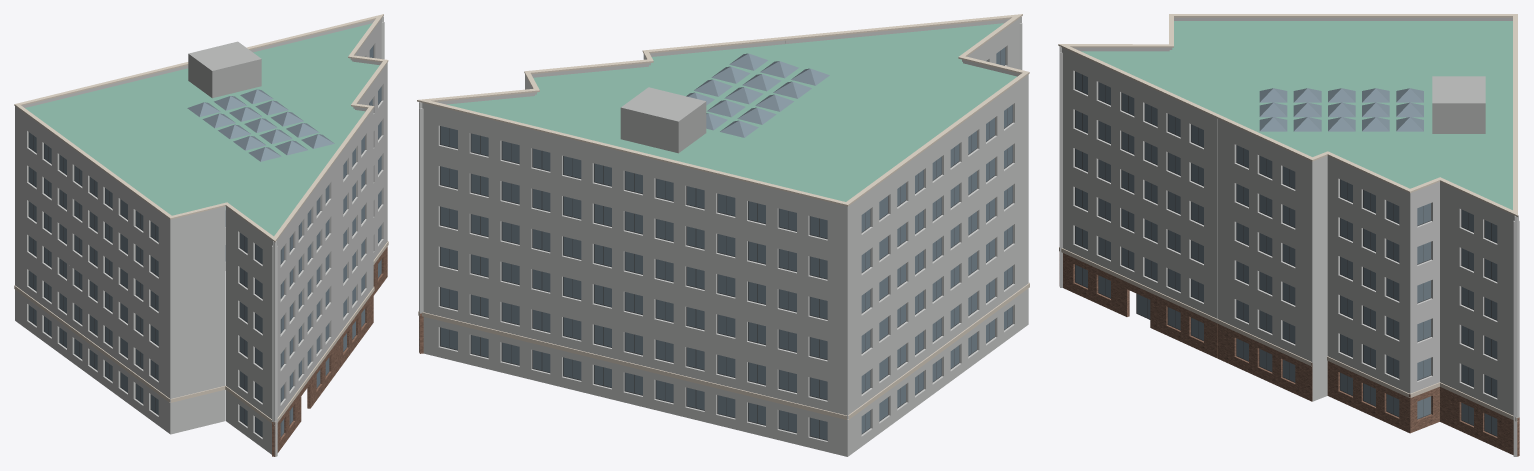
The picture shows the model from 3 angles, left to right: view 1: azimuth 30°, elevation 25°; view 2: azimuth 150°, elevation 25°; view 3: azimuth 270°, elevation 25°; orthographic projection. The views are drawn at different scales.
Visible parts, largest first — view 1: libraryLaw__panel, libraryLaw__mint, libraryLaw__glass, libraryLaw__cream, libraryLaw__frame, libraryLaw__roof, libraryLaw__brick; view 2: libraryLaw__panel, libraryLaw__mint, libraryLaw__glass, libraryLaw__cream, libraryLaw__frame, libraryLaw__roof; view 3: libraryLaw__panel, libraryLaw__mint, libraryLaw__glass, libraryLaw__brick, libraryLaw__cream, libraryLaw__frame, libraryLaw__roof.
Boxes of the visible parts, box(x1,y1,x2,y2) form: libraryLaw__panel: box(15, 16, 387, 456); libraryLaw__mint: box(25, 23, 379, 236); libraryLaw__glass: box(29, 46, 381, 436); libraryLaw__cream: box(14, 14, 388, 425); libraryLaw__frame: box(28, 45, 381, 437); libraryLaw__roof: box(188, 41, 261, 98); libraryLaw__brick: box(272, 246, 387, 456); libraryLaw__panel: box(419, 16, 1028, 456); libraryLaw__mint: box(447, 23, 1016, 201); libraryLaw__glass: box(440, 47, 1012, 439); libraryLaw__cream: box(417, 14, 1029, 419); libraryLaw__frame: box(440, 47, 1012, 440); libraryLaw__roof: box(620, 87, 706, 153); libraryLaw__panel: box(1059, 17, 1519, 456); libraryLaw__mint: box(1081, 21, 1512, 210); libraryLaw__glass: box(1075, 72, 1497, 435); libraryLaw__brick: box(1059, 251, 1519, 456); libraryLaw__cream: box(1058, 14, 1517, 421); libraryLaw__frame: box(1075, 71, 1497, 436); libraryLaw__roof: box(1432, 76, 1485, 133).
Size of the model in its own units: 44.79 by 27.6 by 43.27.
Materials: 7 (1 with a texture image).
